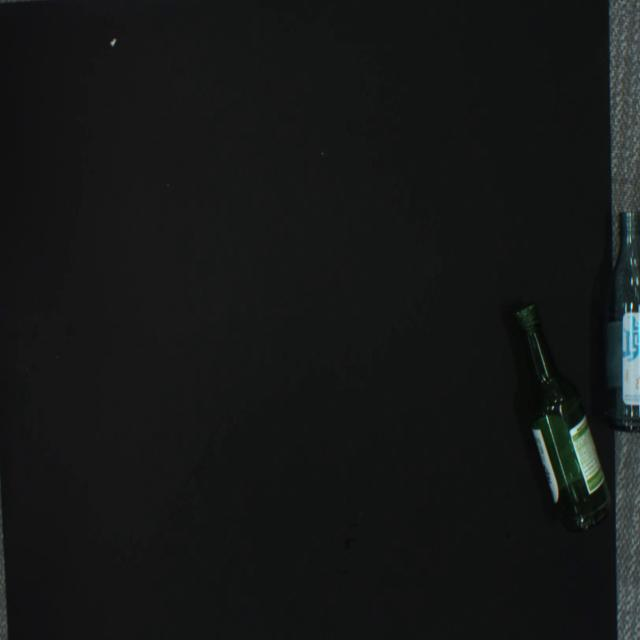soju-bottle: (515, 304, 612, 532), (600, 210, 640, 432)
